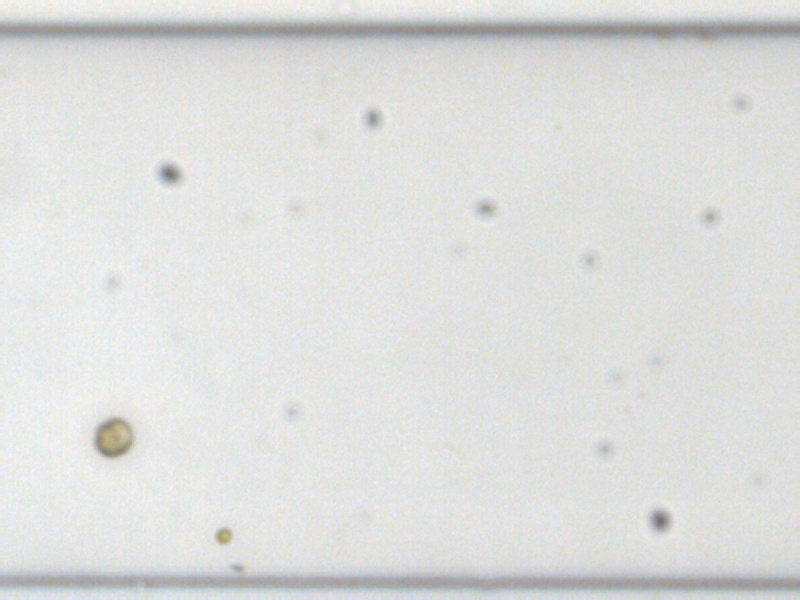Chlorella: (215, 525, 232, 543)
Effrenium: (94, 417, 135, 456)
